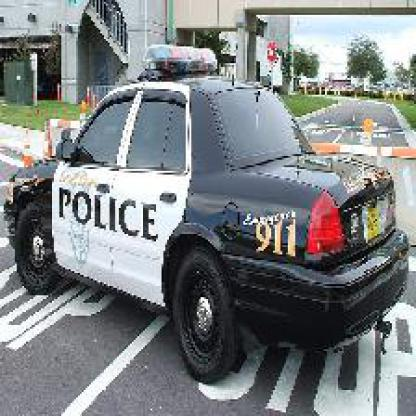emergency: (15, 41, 395, 379)
